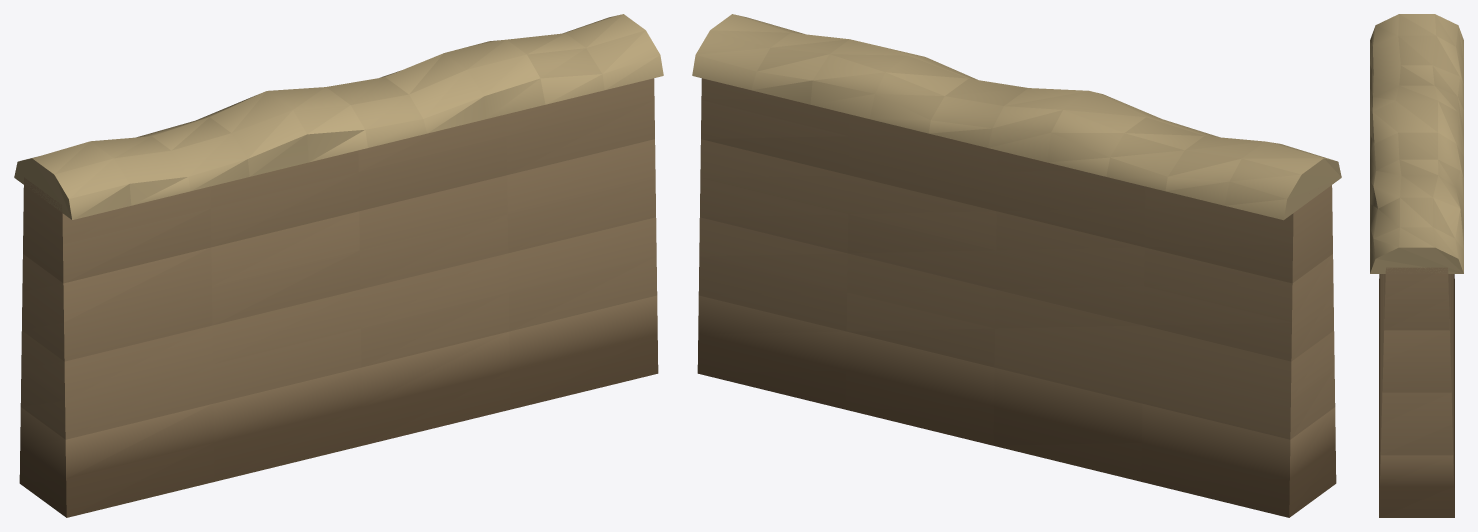
The model's file is hx_tapia.glb.
3 renders of one model, left to right at view 1: azimuth 30°, elevation 25°; view 2: azimuth 150°, elevation 25°; view 3: azimuth 270°, elevation 25°, orthographic. The views are drawn at different scales.
Visible parts, largest first — view 1: hx_tapia_geometry; view 2: hx_tapia_geometry; view 3: hx_tapia_geometry.
Part boxes in pixels (box(x1,y1,x2,y2)): hx_tapia_geometry: box(14, 14, 663, 517); hx_tapia_geometry: box(692, 14, 1341, 517); hx_tapia_geometry: box(1370, 14, 1463, 517).
Size of the model in its own units: 4 by 2.21 by 0.68.
